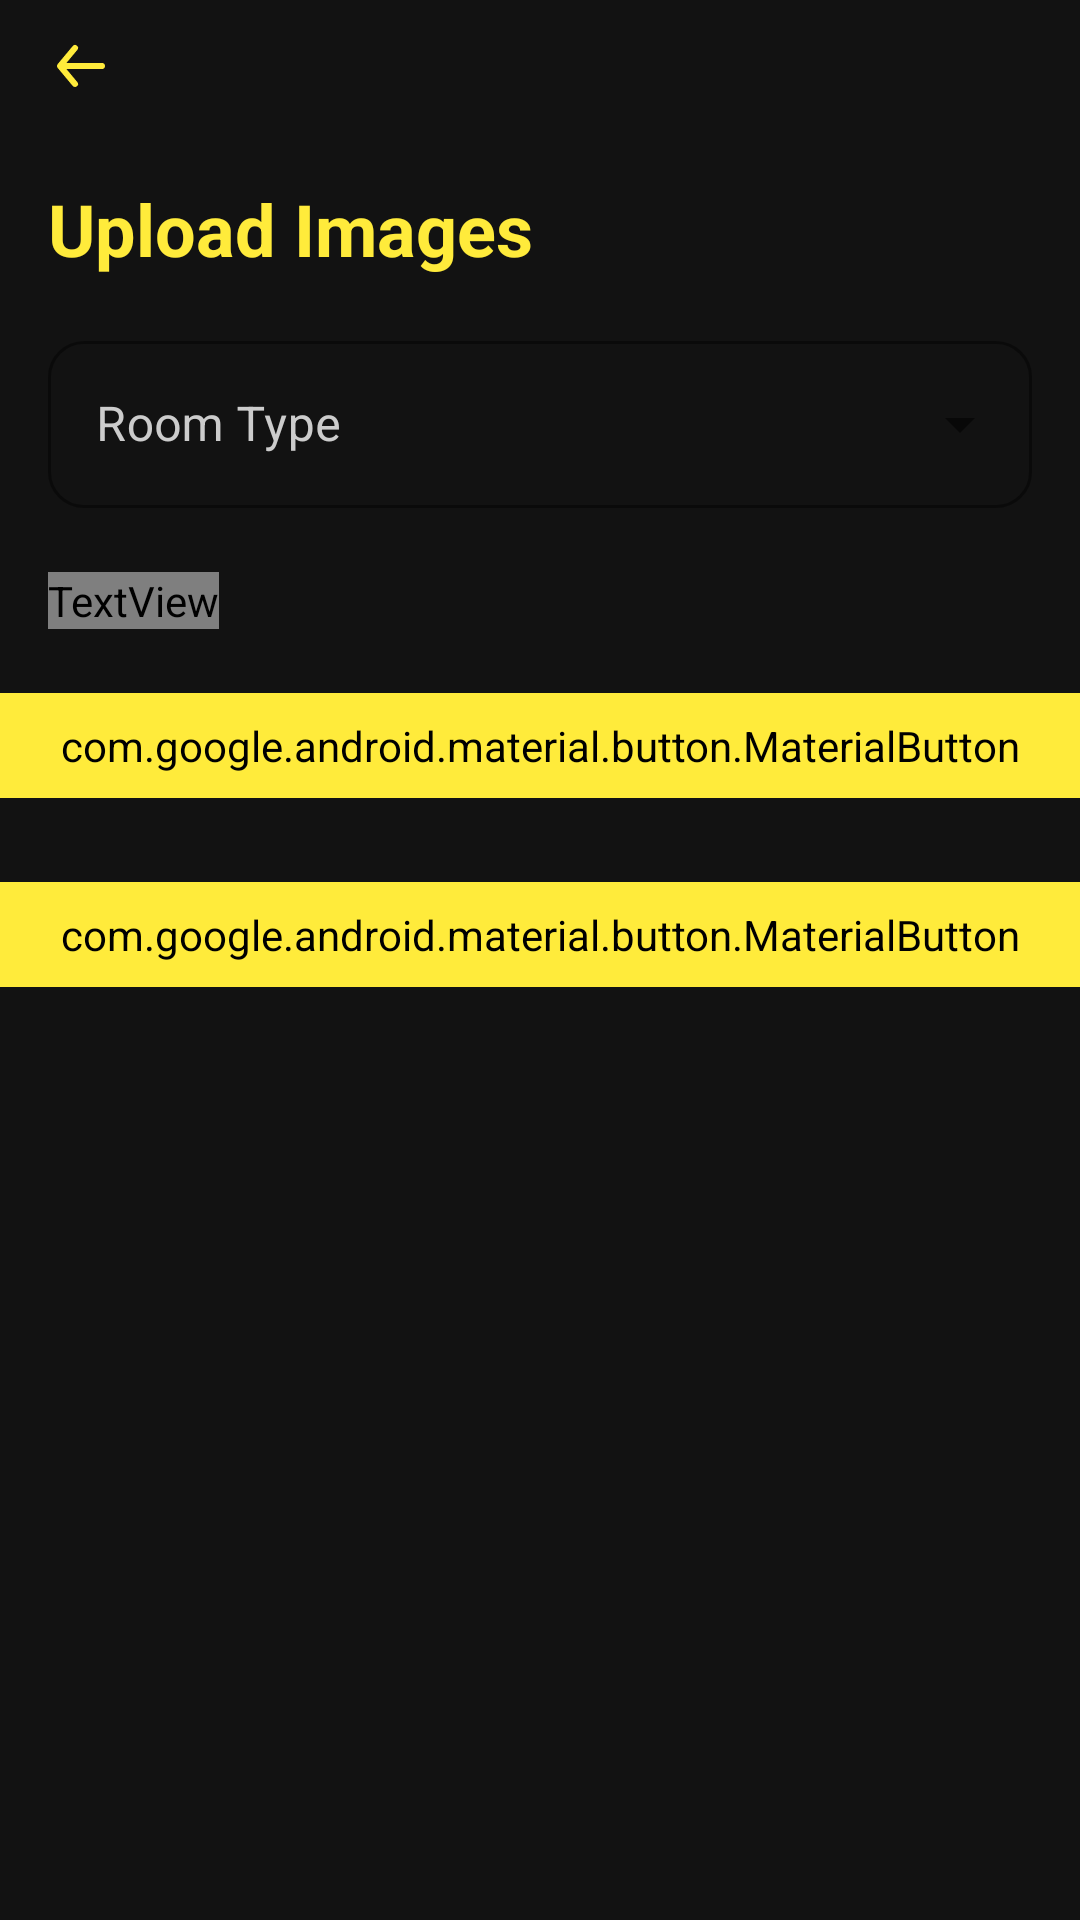

Icons on this 1080w x 1920h Android screen, each with the point to tap as [x,y]:
Back: [81,66]
